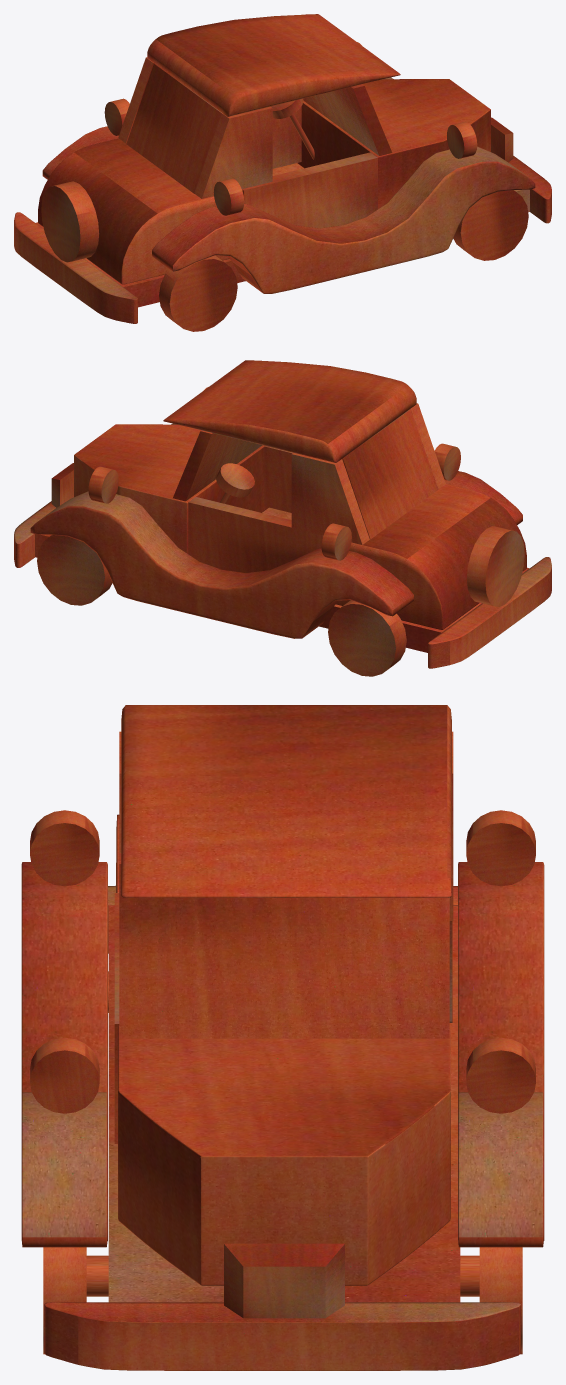
Rendered from carroMadera.obj.
The picture shows the model from 3 angles, top to bottom: view 1: azimuth 30°, elevation 25°; view 2: azimuth 150°, elevation 25°; view 3: azimuth 270°, elevation 25°; orthographic projection. The views are drawn at different scales.
Parts seen in each view (by area): view 1: polySurface32, polySurface14, tras_pCube3, polySurface29, polySurface37, polySurface30, polySurface22, def_polySurface4, polySurface19, polySurface18, polySurface35, polySurface28 (+10 smaller); view 2: polySurface36, polySurface14, tras_pCube3, polySurface29, polySurface30, polySurface9, polySurface11, def_polySurface4, polySurface7, polySurface6, polySurface35, polySurface28 (+10 smaller); view 3: polySurface29, polySurface14, polySurface28, polySurface4, polySurface36, polySurface32, polySurface31, pCube13, pCylinder6, pCylinder8, pCylinder5, pCylinder7 (+4 smaller).
Part boxes in pixels (<box>): polySurface32: <box>152,146,535,293</box>; polySurface14: <box>147,14,400,116</box>; tras_pCube3: <box>38,138,242,284</box>; polySurface29: <box>297,79,490,208</box>; polySurface37: <box>242,152,377,228</box>; polySurface30: <box>126,63,221,193</box>; polySurface22: <box>194,106,272,198</box>; def_polySurface4: <box>14,212,137,323</box>; polySurface19: <box>159,255,237,331</box>; polySurface18: <box>453,190,528,260</box>; polySurface35: <box>41,181,99,262</box>; polySurface28: <box>303,84,392,155</box>; polySurface36: <box>30,491,413,638</box>; polySurface14: <box>163,360,416,462</box>; tras_pCube3: <box>322,484,526,629</box>; polySurface29: <box>74,424,268,553</box>; polySurface30: <box>342,409,438,539</box>; polySurface9: <box>188,497,322,572</box>; polySurface11: <box>291,452,369,544</box>; def_polySurface4: <box>428,557,551,668</box>; polySurface7: <box>328,600,406,676</box>; polySurface6: <box>37,535,112,605</box>; polySurface35: <box>466,526,524,606</box>; polySurface28: <box>173,430,262,501</box>; polySurface29: <box>118,1025,450,1285</box>; polySurface14: <box>121,705,451,897</box>; polySurface28: <box>119,853,449,1038</box>; polySurface4: <box>44,1302,520,1370</box>; polySurface36: <box>458,862,544,1247</box>; polySurface32: <box>21,862,107,1247</box>; polySurface31: <box>108,905,460,1302</box>; pCube13: <box>224,1243,344,1318</box>; pCylinder6: <box>30,810,99,886</box>; pCylinder8: <box>466,810,535,886</box>; pCylinder5: <box>30,1037,99,1113</box>; pCylinder7: <box>466,1037,535,1113</box>.
Size of the model in its own units: 105 by 46.38 by 52.93.
1 material, 1 textured.
